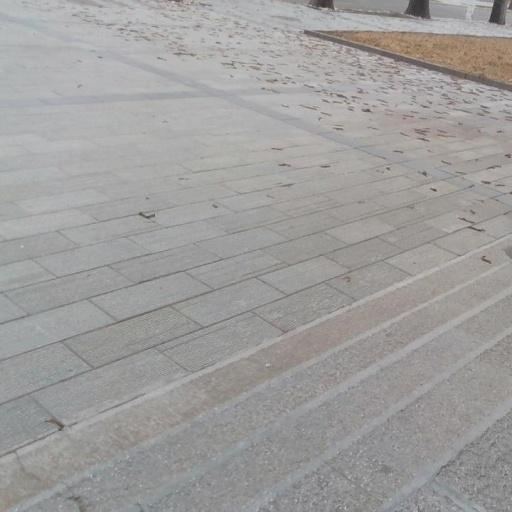stairs: (13, 239, 511, 511)
